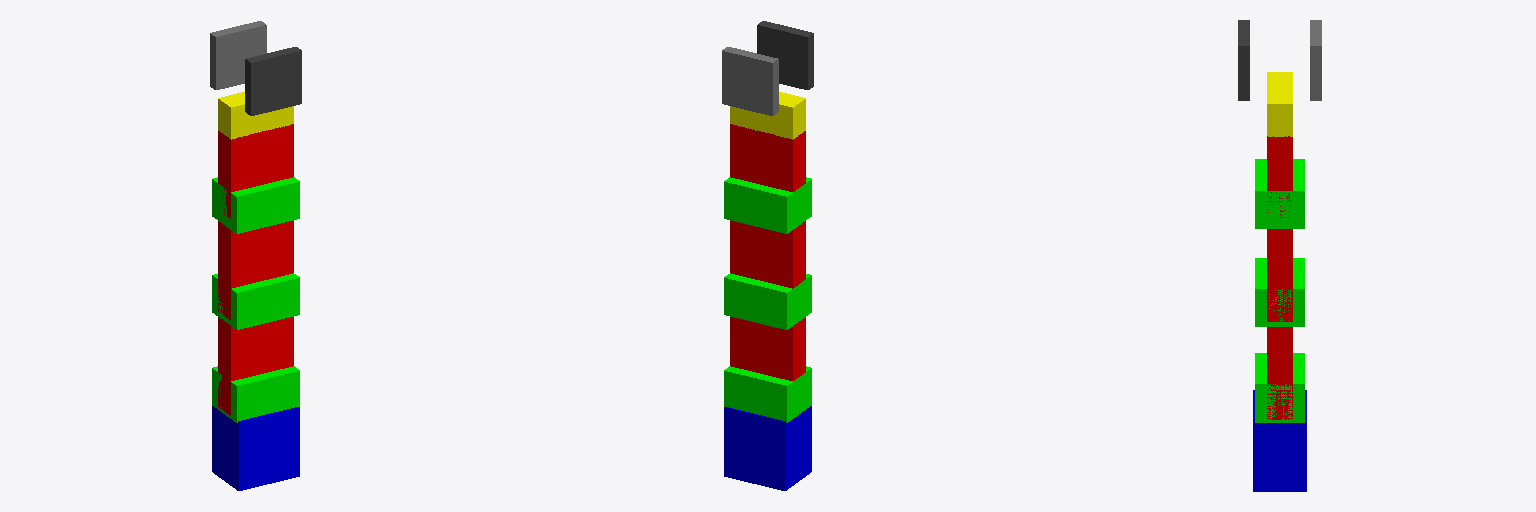
The robot description file, URDF, robot "robotic_arm":
<?xml version="1.0"?>
<robot name="robotic_arm">
    <!-- Base Link -->
    <link name="base_link">
        <visual>
            <origin xyz="0 0 0.0335"/>  <!-- Half of the height to center the visual -->
            <geometry>
                <box size="0.06 0.045 0.065"/>
            </geometry>
            <material name="blue">
                <color rgba="0 0 1 1"/>  <!-- Blue -->
            </material>
        </visual>
        <collision>
            <origin xyz="0 0 0.0335"/>
            <geometry>
                <box size="0.06 0.045 0.065"/>
            </geometry>
        </collision>
    </link>

    <!-- Link 1 -->
    <link name="link1">
        <visual>
            <origin xyz="0 0 0.015"/>  <!-- Half of the height to center the visual -->
            <geometry>
                <box size="0.062 0.042 0.035"/>
            </geometry>
            <material name="green">
                <color rgba="0 1 0 1"/>  <!-- Green -->
            </material>
        </visual>
        <collision>
            <origin xyz="0 0 0.015"/>
            <geometry>
                <box size="0.062 0.042 0.035"/>
            </geometry>
        </collision>
    </link>

    <!-- Link 2 -->
    <link name="link2">
        <visual>
            <origin xyz="0 0 0.0125"/>  <!-- Half of the height to center the visual -->
            <geometry>
                <box size="0.062 0.022 0.085"/>
            </geometry>
            <material name="red">
                <color rgba="1 0 0 1"/>  <!-- Red -->
            </material>
        </visual>
        <collision>
            <origin xyz="0 0 0.0125"/>
            <geometry>
                <box size="0.062 0.022 0.085"/>
            </geometry>
        </collision>
    </link>

    <!-- Link 3 -->
    <link name="link3">
        <visual>
            <origin xyz="0 0 0.01"/>  <!-- Half of the height to center the visual -->
            <geometry>
                <box size="0.062 0.042 0.035"/>
            </geometry>
            <material name="green">
                <color rgba="0 1 0 1"/>  <!-- Green -->
            </material>
        </visual>
        <collision>
            <origin xyz="0 0 0.01"/>
            <geometry>
                <box size="0.062 0.042 0.035"/>
            </geometry>
        </collision>
    </link>

    <!-- Link 4 -->
    <link name="link4">
        <visual>
            <origin xyz="0 0 0.01"/>  <!-- Half of the height to center the visual -->
            <geometry>
                <box size="0.062 0.022 0.085"/>
            </geometry>
            <material name="red">
                <color rgba="1 0 0 1"/>  <!-- Red -->
            </material>
        </visual>
        <collision>
            <origin xyz="0 0 0.01"/>
            <geometry>
                <box size="0.062 0.022 0.085"/>
            </geometry>
        </collision>
    </link>

    <!-- Link 5 -->
    <link name="link5">
        <visual>
            <origin xyz="0 0 -0.02"/>  <!-- Half of the height to center the visual -->
            <geometry>
                <box size="0.062 0.042 0.035"/>
            </geometry>
            <material name="green">
                <color rgba="0 1 0 1"/>  <!-- Green -->
            </material>
        </visual>
        <collision>
            <origin xyz="0 0 -0.02"/>
            <geometry>
                <box size="0.062 0.042 0.035"/>
            </geometry>
        </collision>
    </link>

    <!-- Link 6 -->
    <link name="link6">
        <visual>
            <origin xyz="0 0 0.01"/>  <!-- Half of the height to center the visual -->
            <geometry>
                <box size="0.062 0.022 0.075"/>
            </geometry>
            <material name="red">
                <color rgba="1 0 0 1"/>  <!-- Red -->
            </material>
        </visual>
        <collision>
            <origin xyz="0 0 0.01"/>
            <geometry>
                <box size="0.062 0.022 0.075"/>
            </geometry>
        </collision>
    </link>

    <!-- Link Grabber -->
    <link name="link_grabber">
        <visual>
            <origin xyz="0 0 0"/>  <!-- Half of the height to center the visual -->
            <geometry>
                <box size="0.062 0.022 0.03"/>
            </geometry>
            <material name="yellow">
                <color rgba="1 1 0 1"/>  <!-- Yellow -->
            </material>
        </visual>
        <collision>
            <origin xyz="0 0 0"/>
            <geometry>
                <box size="0.062 0.022 0.03"/>
            </geometry>
        </collision>
    </link>

    <!-- Fixed Part of the Clamp -->
    <link name="clamp_fixed">
        <visual>
            <origin xyz="0 0 0" rpy="0 0 0"/>  <!-- Rotated 45 degrees around X-axis -->
            <geometry>
                <box size="0.05 0.01 0.05"/>
            </geometry>
            <material name="gray">
                <color rgba="0.5 0.5 0.5 1"/>  <!-- Gray -->
            </material>
        </visual>
        <collision>
            <origin xyz="0 0 0" rpy="0 0 0"/>  <!-- Rotated 45 degrees around X-axis -->
            <geometry>
                <box size="0.05 0.01 0.05"/>
            </geometry>
        </collision>
    </link>

    <!-- Moving Part of the Clamp -->
    <link name="clamp_moving">
        <visual>
            <origin xyz="0 0 0"/>  <!-- Half of the height to center the visual -->
            <geometry>
                <box size="0.05 0.01 0.05"/>
            </geometry>
            <material name="dark_gray">
                <color rgba="0.3 0.3 0.3 1"/>  <!-- Dark Gray -->
            </material>
        </visual>
        <collision>
            <origin xyz="0 0 0"/>
            <geometry>
                <box size="0.05 0.01 0.05"/>
            </geometry>
        </collision>
    </link>

    <!-- Joint Definitions -->
    <joint name="rotating_base" type="revolute">
        <parent link="base_link"/>
        <child link="link1"/>
        <origin xyz="0 0 0.067" rpy="0 0 0"/>  <!-- Moved to top of base_link -->
        <axis xyz="0 0 1"/>
        <limit effort="1.0" lower="-1.5708" upper="1.5708" velocity="1.0"/>
    </joint>

    <joint name="joint1" type="revolute">
        <parent link="link1"/>
        <child link="link2"/>
        <origin xyz="0 0 0.03" rpy="0 0 0"/>  <!-- Moved to top of link1 -->
        <axis xyz="1 0 0"/>
        <limit effort="1.0" lower="-1.5708" upper="1.5708" velocity="1.0"/>
    </joint>

    <joint name="joint2" type="revolute">
        <parent link="link2"/>
        <child link="link3"/>
        <origin xyz="0 0 0.062" rpy="0 0 0"/>  
        <axis xyz="0 0 1"/>
        <limit effort="1.0" lower="-1.5708" upper="1.5708" velocity="1.0"/>
    </joint>

    <joint name="joint3" type="revolute">
        <parent link="link3"/>
        <child link="link4"/>
        <origin xyz="0 0 0.03" rpy="0 0 0"/> 
        <axis xyz="1 0 0"/>
        <limit effort="1.0" lower="-1.97222" upper="1.97222" velocity="1.0"/>
    </joint>

    <joint name="joint4" type="revolute">
        <parent link="link4"/>
        <child link="link5"/>
        <origin xyz="0 0 0.09" rpy="0 0 0"/>  
        <axis xyz="0 0 1"/>
        <limit effort="1.0" lower="-1.5708" upper="1.5708" velocity="1.0"/>
    </joint>

    <joint name="joint5" type="revolute">
        <parent link="link5"/>
        <child link="link6"/>
        <origin xyz="0 0 0" rpy="0 0 0"/>  
        <axis xyz="1 0 0"/>
        <limit effort="1.0" lower="-1.5708" upper="1.5708" velocity="1.0"/>
    </joint>

    <joint name="joint6" type="revolute">
        <parent link="link6"/>
        <child link="link_grabber"/>
        <origin xyz="0 0 0.062" rpy="0 0 0"/>  
        <axis xyz="0 0 1"/>
        <limit effort="1.0" lower="-1.5708" upper="1.5708" velocity="1.0"/>
    </joint>

    <!-- Fixed Clamp Joint -->
    <joint name="clamp_fixed_joint" type="fixed">
        <parent link="link_grabber"/>
        <child link="clamp_fixed"/>
        <origin xyz="0 0.03 0.04" rpy="0 0 0"/>  <!-- Rotated 45 degrees around X-axis -->
    </joint>

    <!-- Moving Clamp Joint -->
    <joint name="clamp_moving_joint" type="revolute">
        <parent link="link_grabber"/>
        <child link="clamp_moving"/>
        <origin xyz="0 -0.03 0.04" rpy="0 0 0"/>  <!-- Positioned at the end of link_grabber -->
        <axis xyz="1 0 0"/>  <!-- Rotates around the X-axis -->
        <limit effort="1.0" lower="-0.7854" upper="0.7854" velocity="1.0"/>  <!-- -45 to +45 degrees -->
    </joint>
</robot>

--- Render facts (derived) ---
The picture shows the robot from 3 angles, left to right: view 1: azimuth 30°, elevation 25°; view 2: azimuth 150°, elevation 25°; view 3: azimuth 270°, elevation 25°; orthographic projection.
Robot: robotic_arm — 10 links, 9 joints (8 revolute, 1 fixed); root link base_link; default pose: all joints at 0.
Visible links, largest first — view 1: base_link, link4, link2, link6, link5, clamp_moving, link3, link1, clamp_fixed, link_grabber; view 2: base_link, link4, link6, link2, link5, link3, link1, clamp_fixed, clamp_moving, link_grabber; view 3: base_link, link5, link4, link1, link2, link3, link_grabber, link6, clamp_fixed, clamp_moving.
Boxes of the visible links, x1=… form: base_link: x1=212, y1=406, x2=299, y2=490; link4: x1=218, y1=220, x2=293, y2=319; link2: x1=218, y1=317, x2=293, y2=415; link6: x1=218, y1=124, x2=293, y2=218; link5: x1=212, y1=177, x2=299, y2=233; clamp_moving: x1=245, y1=47, x2=301, y2=115; link3: x1=212, y1=273, x2=299, y2=329; link1: x1=212, y1=366, x2=299, y2=422; clamp_fixed: x1=210, y1=21, x2=266, y2=89; link_grabber: x1=218, y1=92, x2=293, y2=139; base_link: x1=724, y1=406, x2=811, y2=490; link4: x1=730, y1=220, x2=805, y2=288; link6: x1=730, y1=124, x2=805, y2=191; link2: x1=730, y1=317, x2=805, y2=380; link5: x1=724, y1=177, x2=811, y2=233; link3: x1=724, y1=273, x2=811, y2=329; link1: x1=724, y1=366, x2=811, y2=422; clamp_fixed: x1=722, y1=47, x2=778, y2=115; clamp_moving: x1=757, y1=21, x2=813, y2=89; link_grabber: x1=730, y1=92, x2=805, y2=139; base_link: x1=1253, y1=390, x2=1306, y2=491; link5: x1=1255, y1=159, x2=1304, y2=228; link4: x1=1267, y1=229, x2=1292, y2=321; link1: x1=1255, y1=353, x2=1304, y2=422; link2: x1=1267, y1=327, x2=1292, y2=419; link3: x1=1255, y1=258, x2=1304, y2=326; link_grabber: x1=1267, y1=72, x2=1292, y2=136; link6: x1=1267, y1=136, x2=1292, y2=217; clamp_fixed: x1=1310, y1=20, x2=1321, y2=100; clamp_moving: x1=1238, y1=20, x2=1249, y2=100.
Bounding box of the posed robot: 0.062 × 0.07 × 0.405 m (x, y, z).
Geometry: primitives only (box / cylinder / sphere), no mesh files.